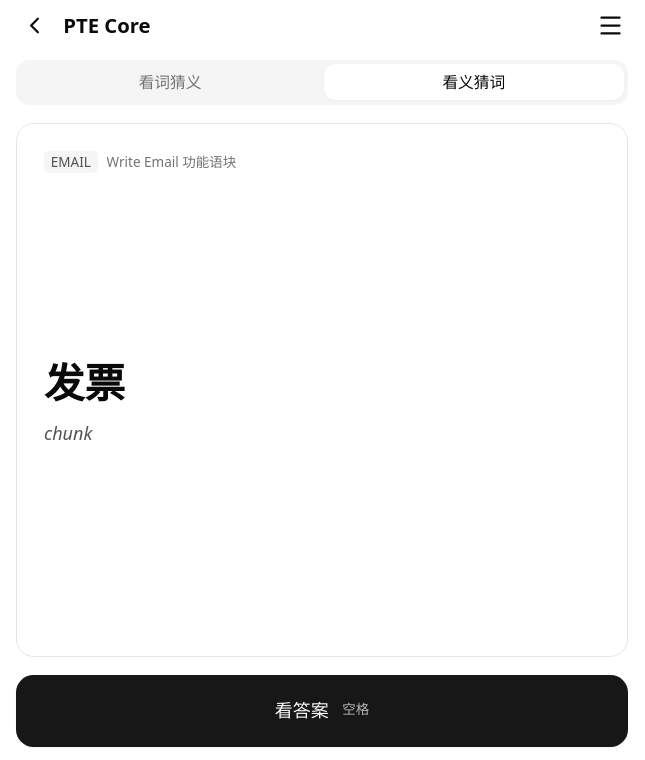
it: 音标与朗读 › 看义猜词模式下，翻面前不显示音标——那等于泄露读音
Check: the text "/ˈɪnvɔɪs/" is not shown
Step 1. Click the button "看答案 空格" → click(322, 710), box [16,674,628,746]
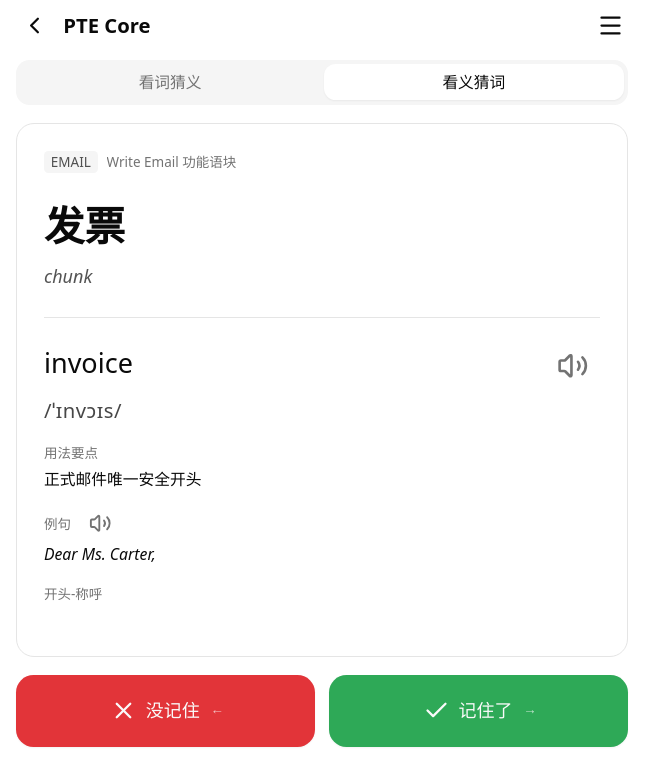
Check: the text "/ˈɪnvɔɪs/" is shown, box [44,396,122,424]
